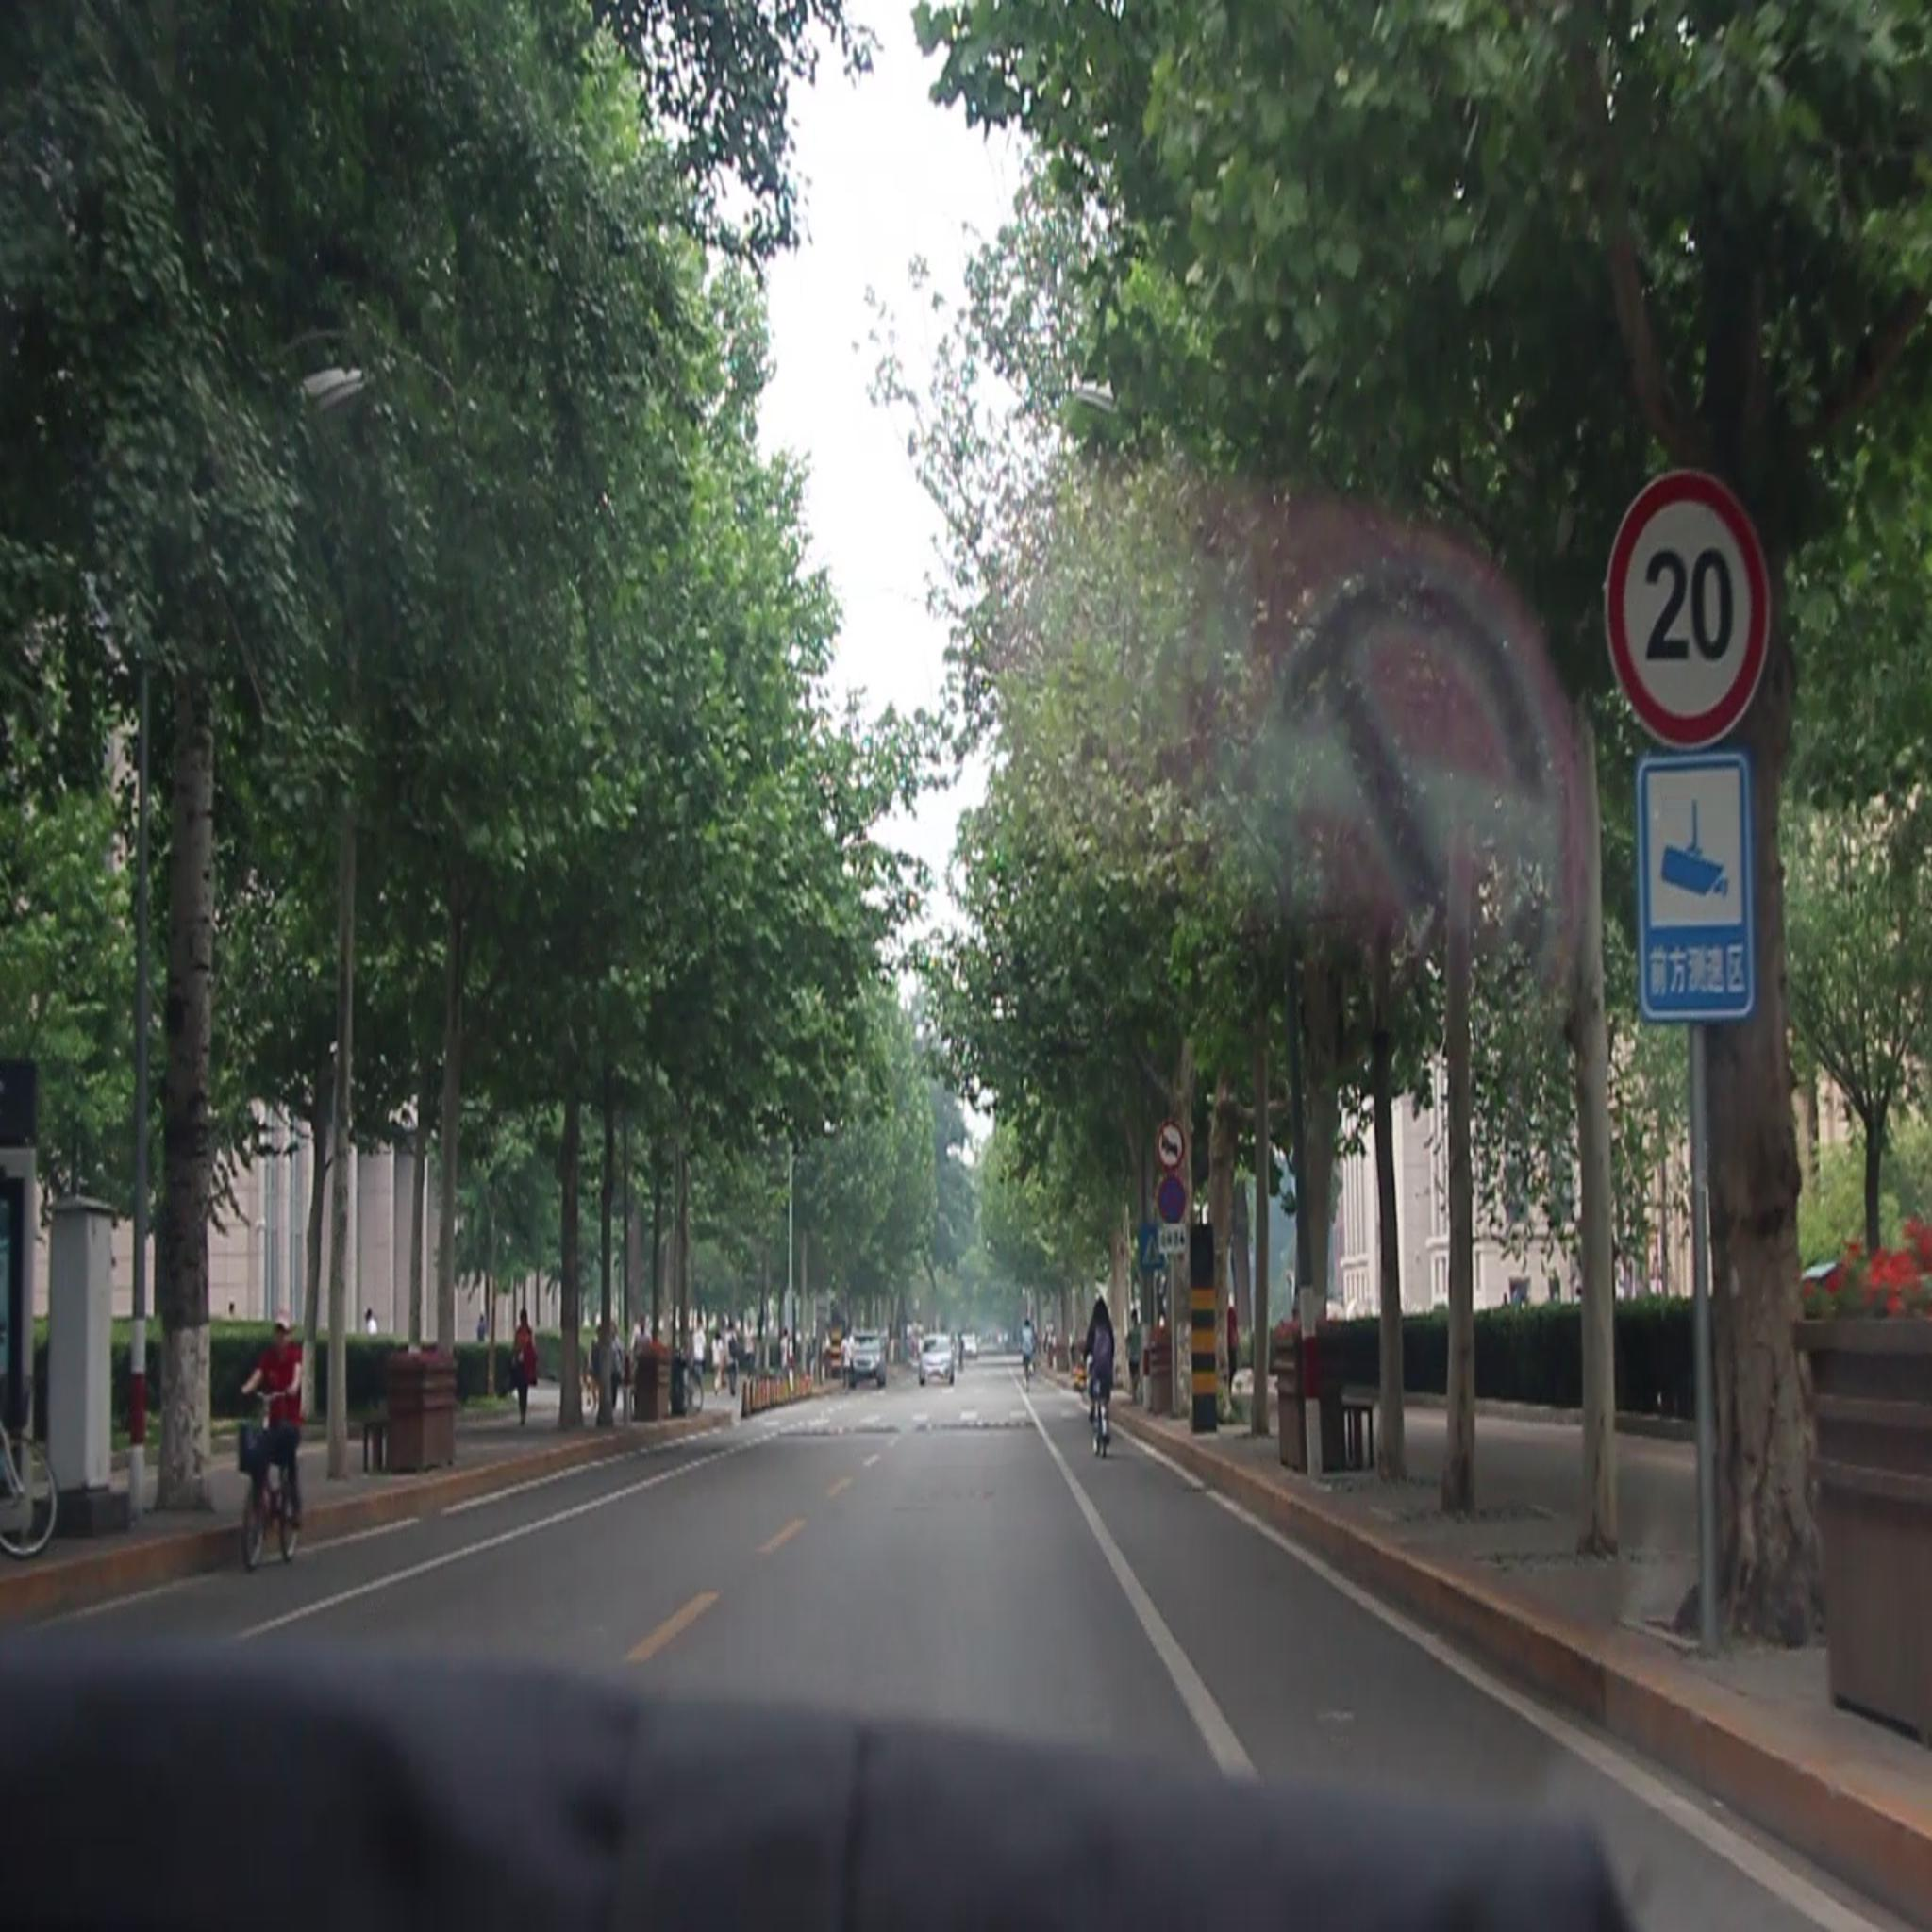pl20: (1599, 464, 1766, 757)
pn: (1161, 1173, 1185, 1230)
